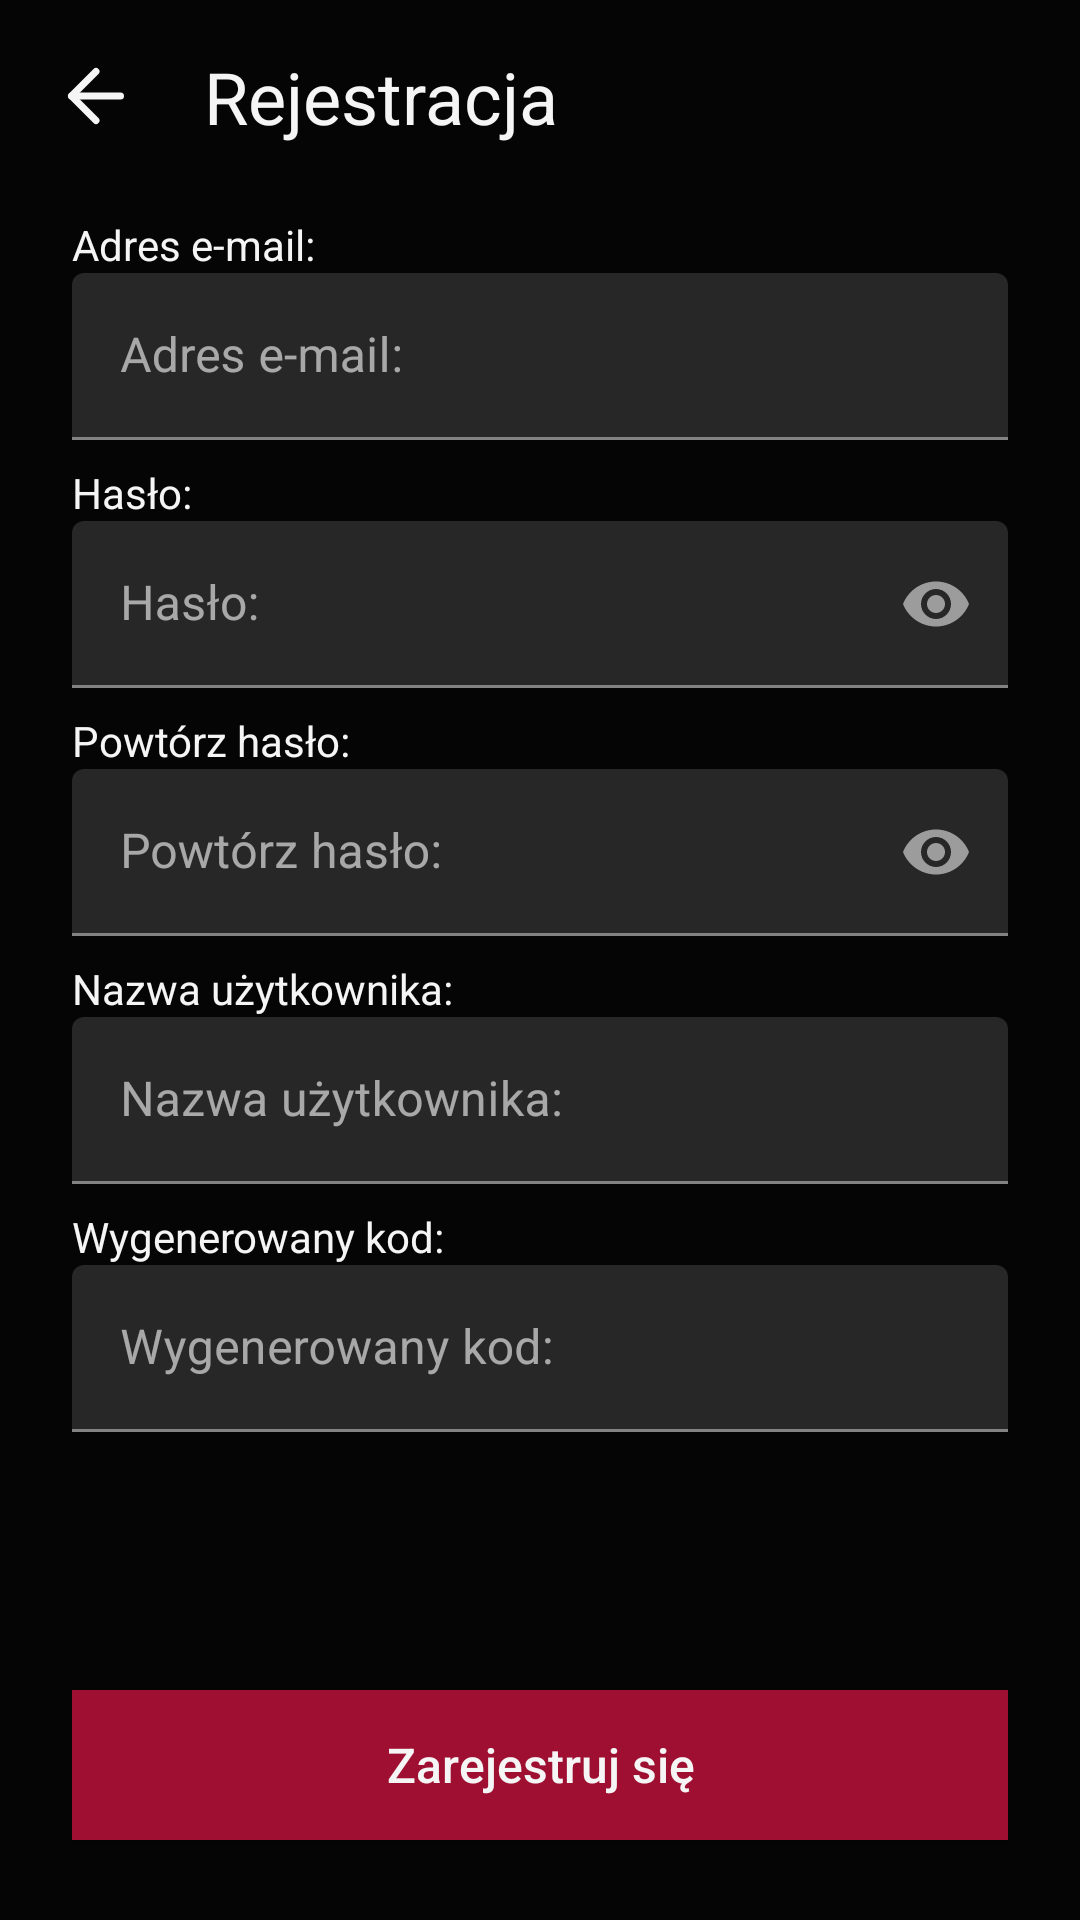

Icon click points for this 1080px×1920px phone screenshot, format point (x, y):
Go Back: point (96, 96)
